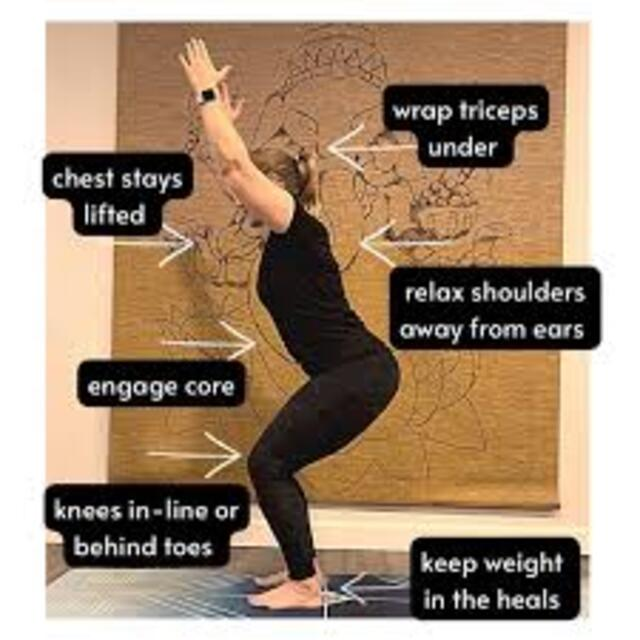Squat_Pose: (174, 34, 407, 608)
